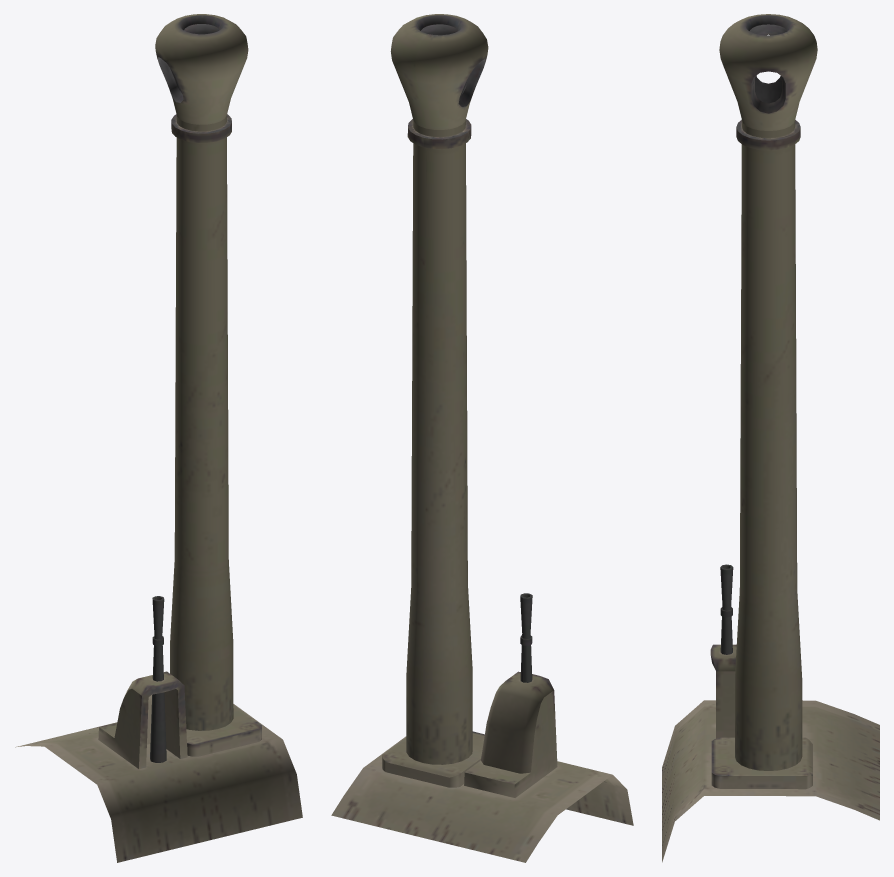
File: Gun_07.glb
3 renders of one model, left to right at view 1: azimuth 30°, elevation 25°; view 2: azimuth 150°, elevation 25°; view 3: azimuth 270°, elevation 25°, orthographic. The views are drawn at different scales.
Visible parts, largest first — view 1: set_0_group_0; view 2: set_0_group_0; view 3: set_0_group_0.
Part boxes in pixels (<box>): set_0_group_0: <box>15,14,302,862</box>; set_0_group_0: <box>331,14,633,862</box>; set_0_group_0: <box>662,14,879,862</box>.
Bounding box in the file's own units: 0.5352 × 2.12 × 0.5146.
Materials: 1 (1 with a texture image).
